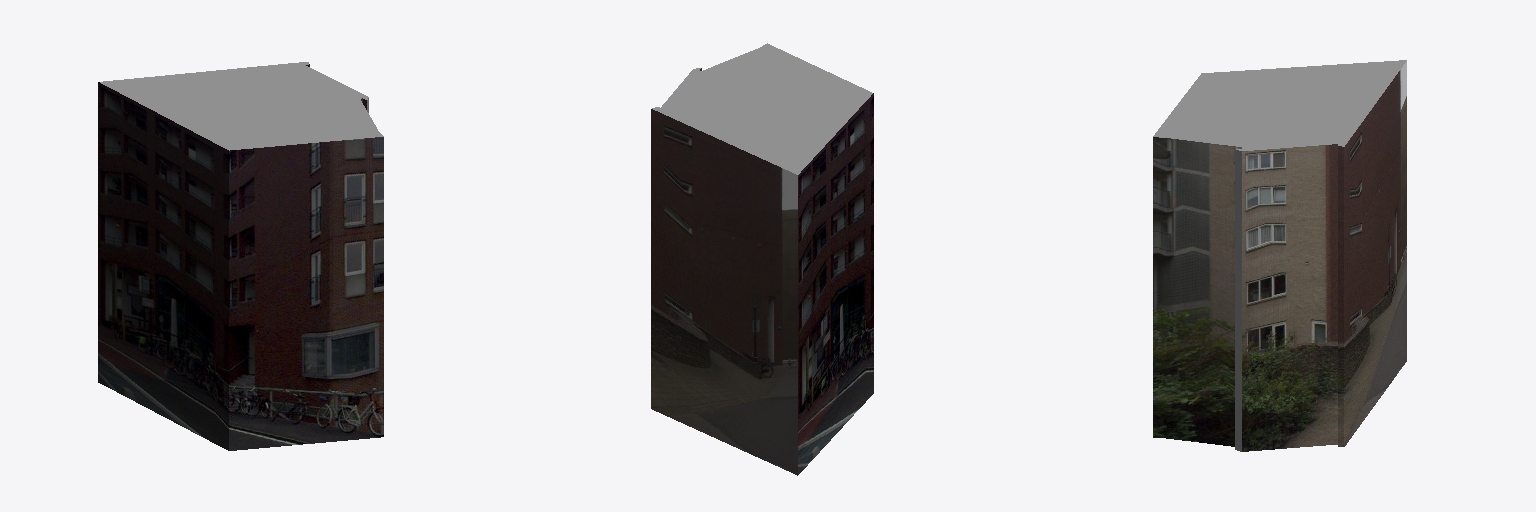
The picture shows the model from 3 angles: view 1: azimuth 30°, elevation 25°; view 2: azimuth 150°, elevation 25°; view 3: azimuth 270°, elevation 25°; orthographic projection.
Visible parts, largest first — view 1: pand; view 2: pand; view 3: pand.
Boxes of the visible parts, x1=… form: pand: x1=98, y1=62, x2=383, y2=450; pand: x1=651, y1=43, x2=873, y2=475; pand: x1=1153, y1=60, x2=1406, y2=451.
Size of the model in its own units: 13.41 by 20.53 by 15.78.
Materials: 3 (2 with a texture image).